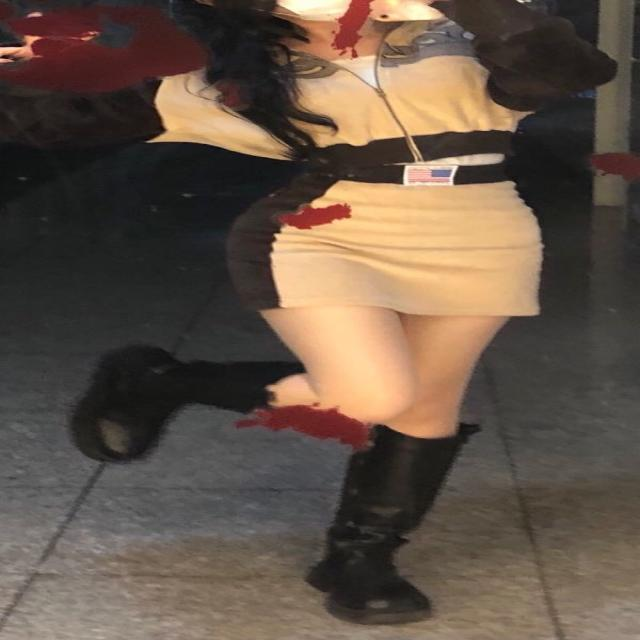skirt: (222, 168, 555, 316)
zipup: (0, 0, 610, 166)
